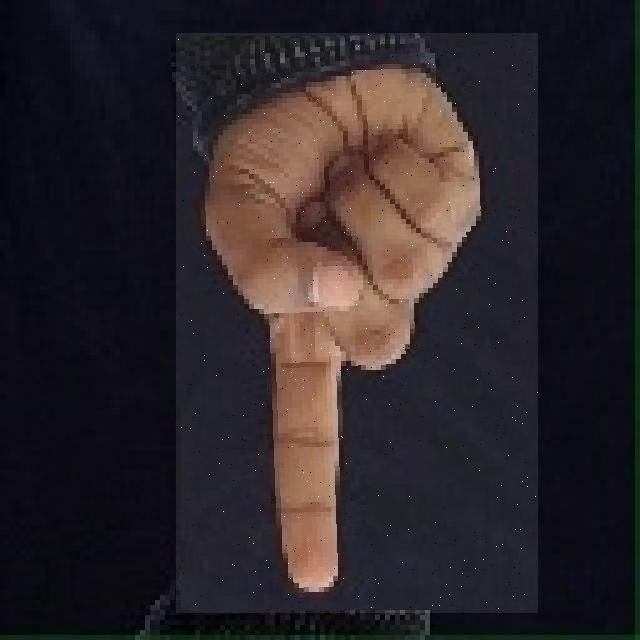IloveYou: (176, 33, 538, 613)
